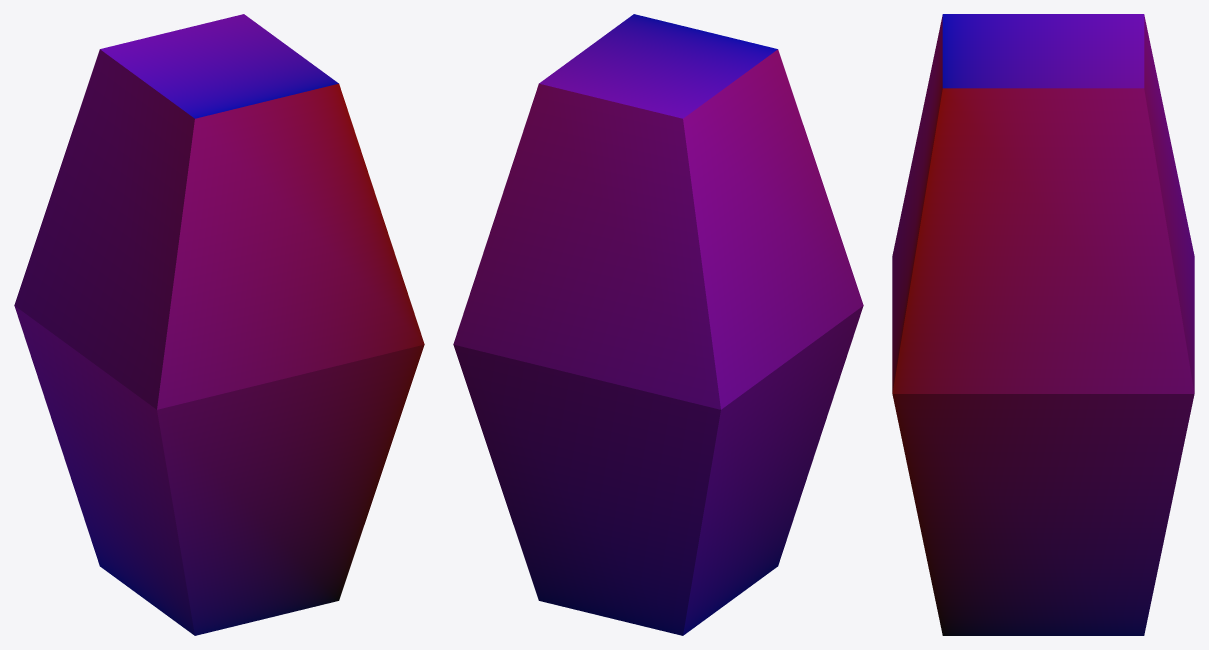
The picture shows the model from 3 angles, left to right: view 1: azimuth 30°, elevation 25°; view 2: azimuth 150°, elevation 25°; view 3: azimuth 270°, elevation 25°; orthographic projection. The views are drawn at different scales.
Parts seen in each view (by area): view 1: model_2CB5; view 2: model_2CB5; view 3: model_2CB5.
Boxes of the visible parts, x1=… form: model_2CB5: x1=14, y1=14, x2=424, y2=635; model_2CB5: x1=453, y1=14, x2=863, y2=635; model_2CB5: x1=892, y1=14, x2=1194, y2=635.
Size of the model in its own units: 13.1 by 24.19 by 12.09.
